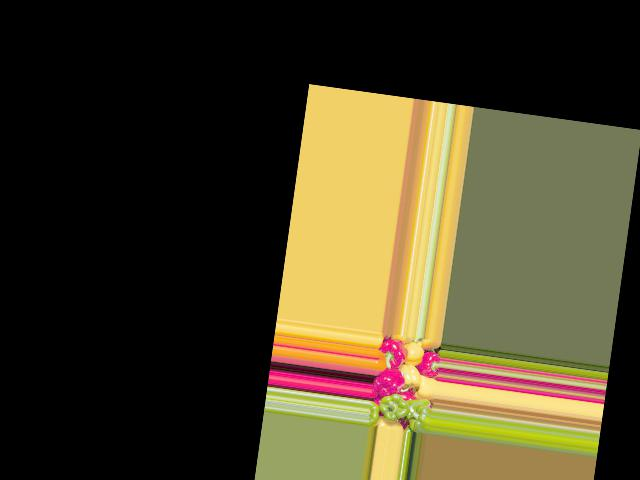bell_pepper: (366, 400, 384, 428)
